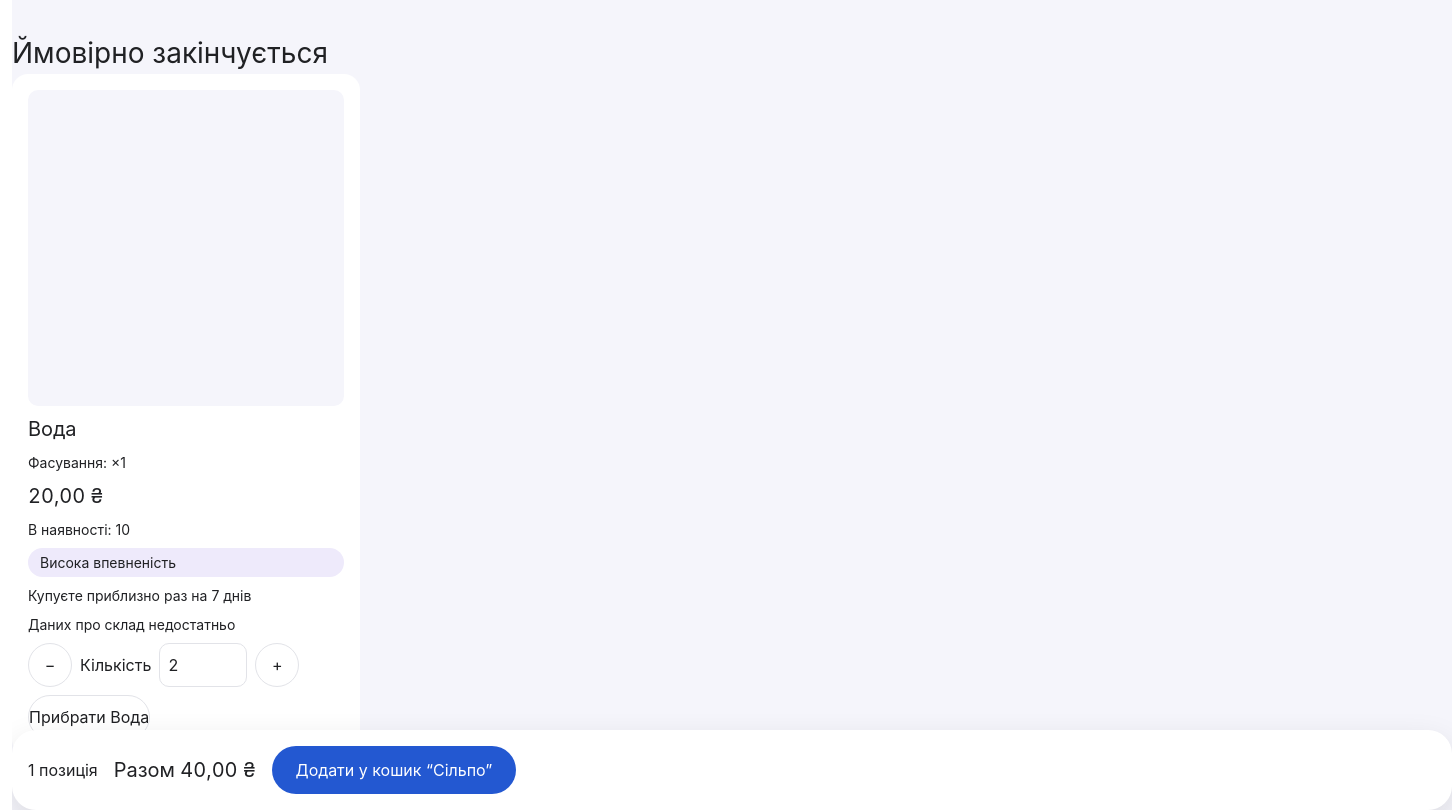
DraftEditor › T15-02 associates invalid typed quantity and disables confirmation
The image size is (1452, 810).
Replace the text in the number field named "Кількість для Вода" with "1.25": (203, 665) [159,643,247,687]
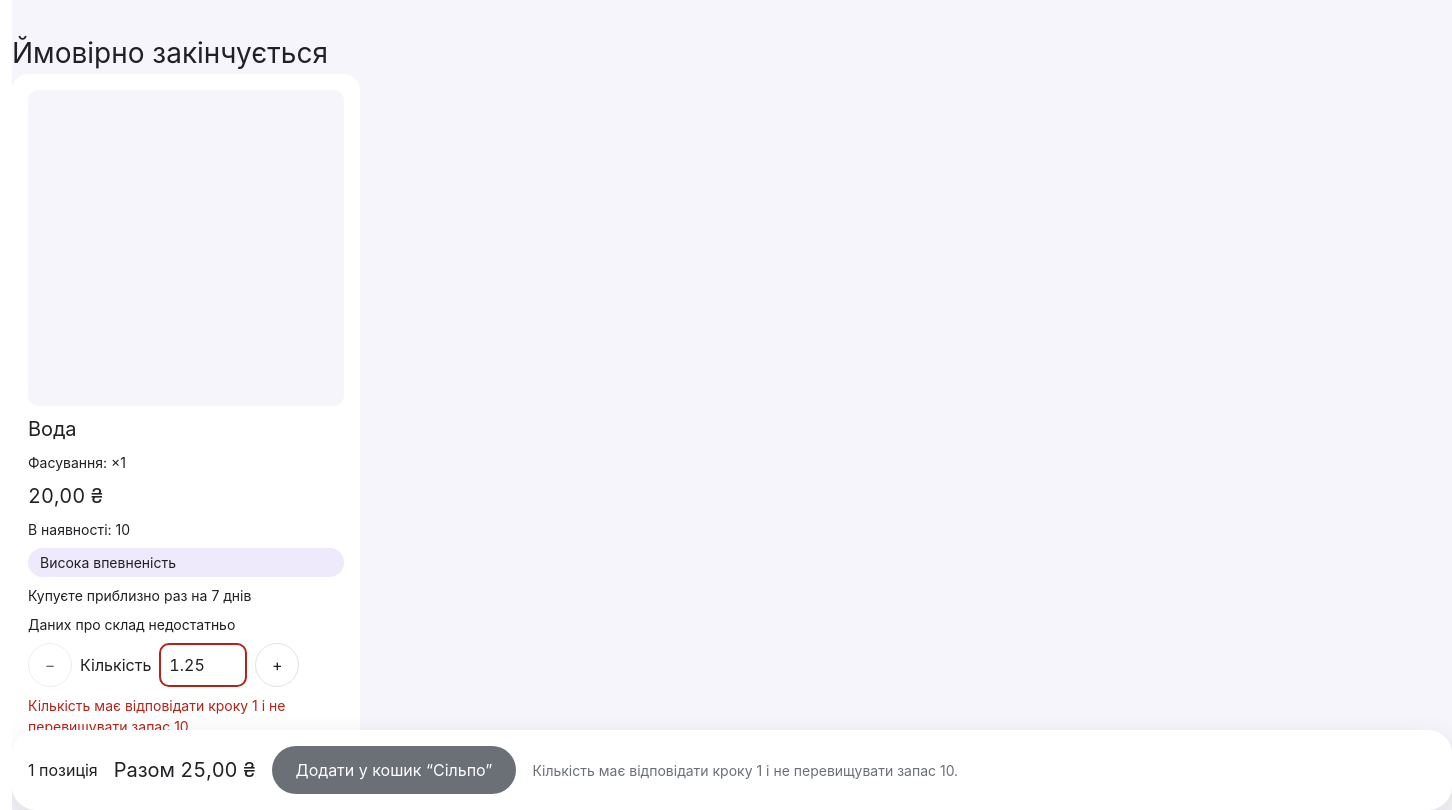
Result: the button "Додати у кошик “Сільпо”" is disabled at [272,746,516,794]
